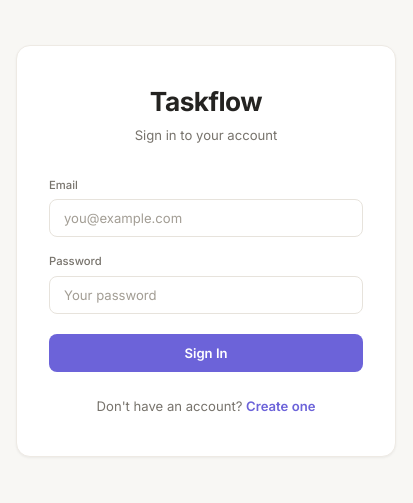
LoginPage › shows error when login fails
Type "test@test.com" into the field labelled "Email".
click(206, 218); type("test@test.com")  # box [49, 199, 363, 237]
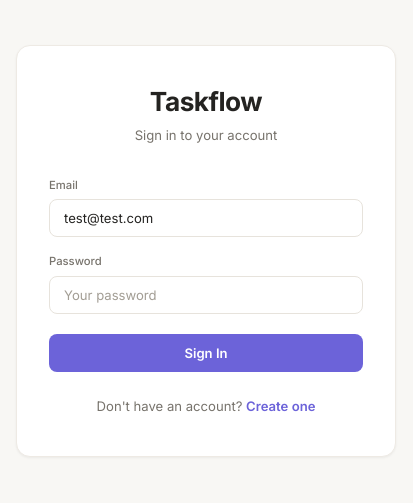
Type "wrong" into the password field labelled "Password".
click(206, 295); type("wrong")  # box [49, 276, 363, 314]
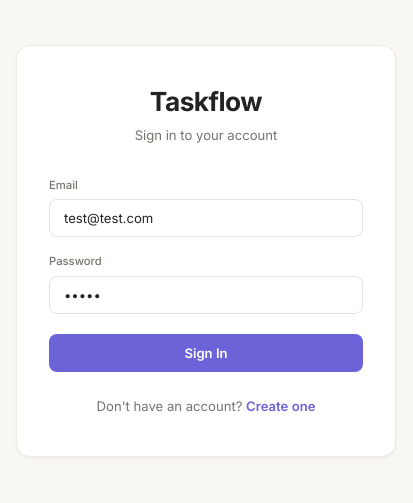
Click the button "Sign In".
click(206, 353)  # box [49, 334, 363, 372]
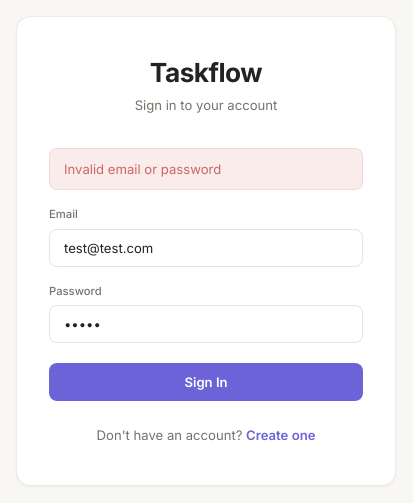
Expected: the text "Invalid email or password" is shown, [49, 148, 363, 190]
